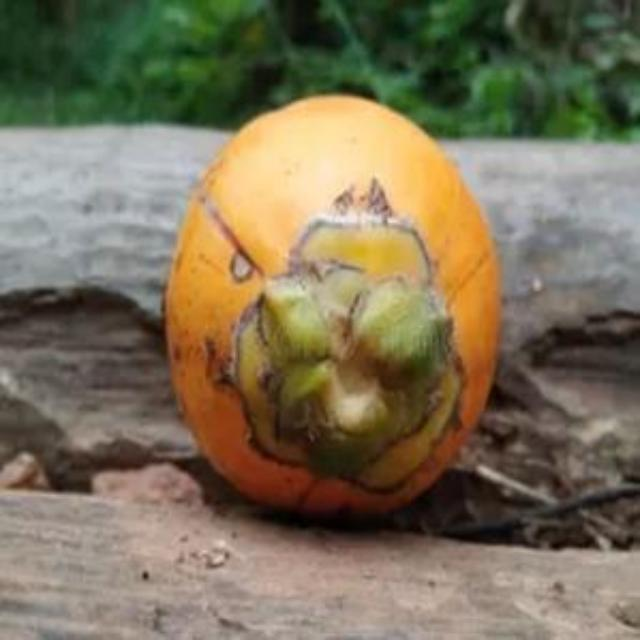good: (167, 94, 503, 524)
